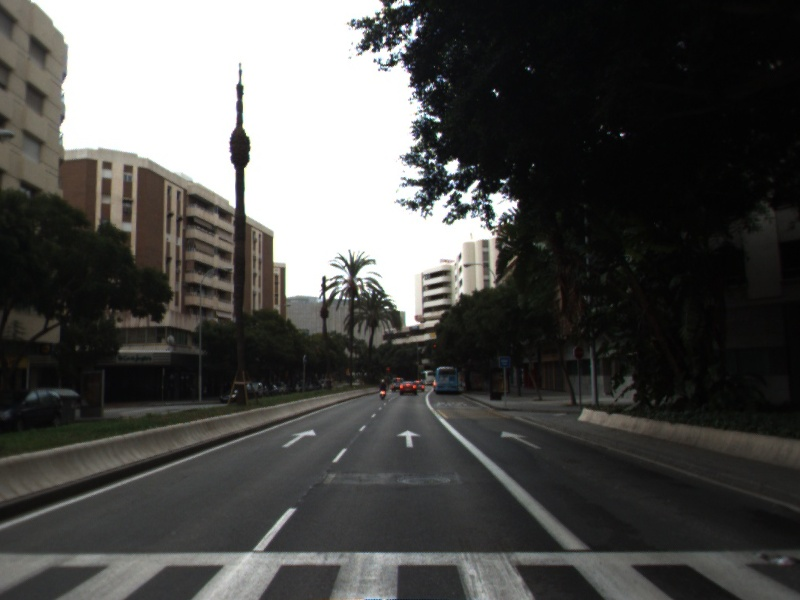STRAIGHT: (498, 429, 544, 451), (279, 427, 319, 450), (394, 428, 423, 450)
